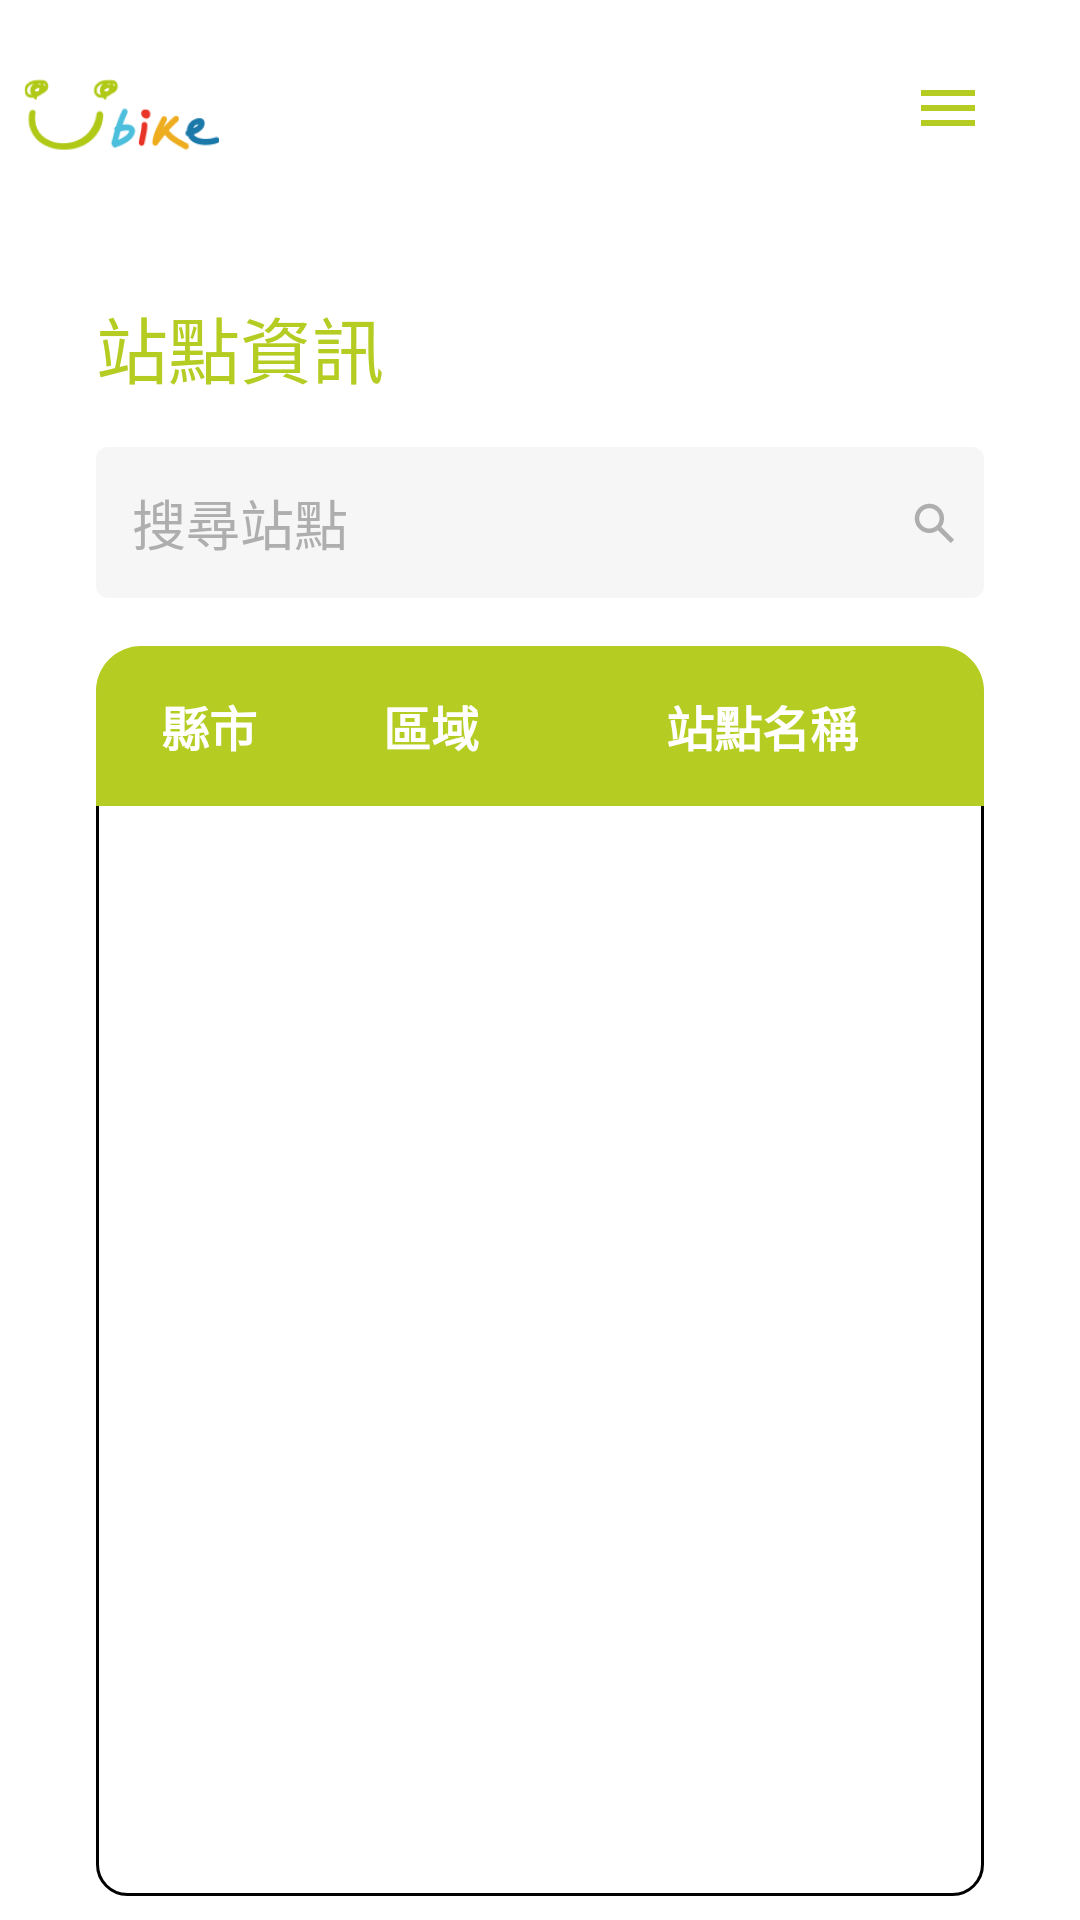

Locate icon controls on the screen. Image size 1080*1920, boxes as (x1, y1, x2, y2).
menu: (921, 90, 975, 126)
search: (915, 504, 954, 543)
